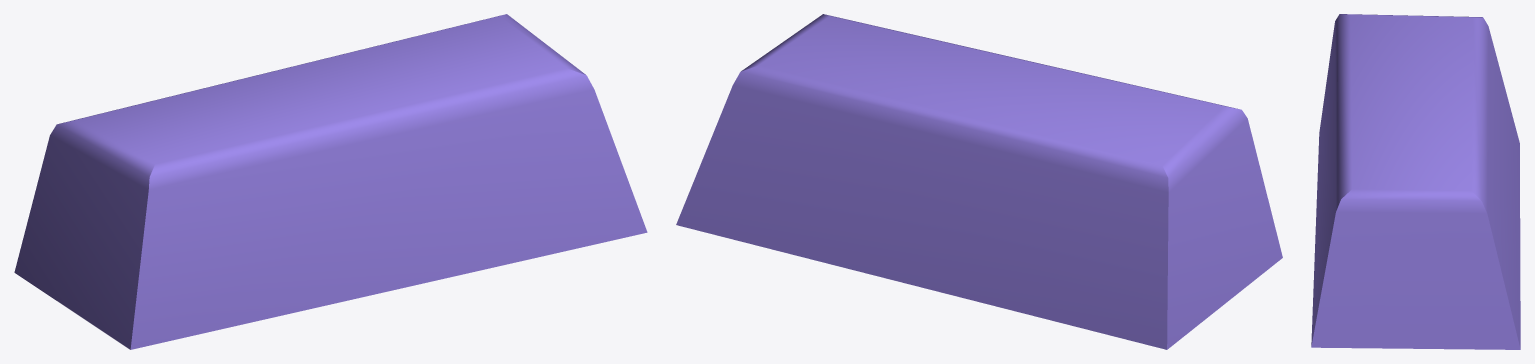
The model's file is ingot.glb.
3 renders of one model, left to right at view 1: azimuth 30°, elevation 25°; view 2: azimuth 150°, elevation 25°; view 3: azimuth 270°, elevation 25°, orthographic. The views are drawn at different scales.
Parts seen in each view (by area): view 1: Icosphere; view 2: Icosphere; view 3: Icosphere.
Boxes of the visible parts, x1,y1,x2,y2 form: Icosphere: (14,14,647,349); Icosphere: (676,14,1282,349); Icosphere: (1311,14,1520,349).
Size of the model in its own units: 0.4844 by 0.1541 by 0.2013.
